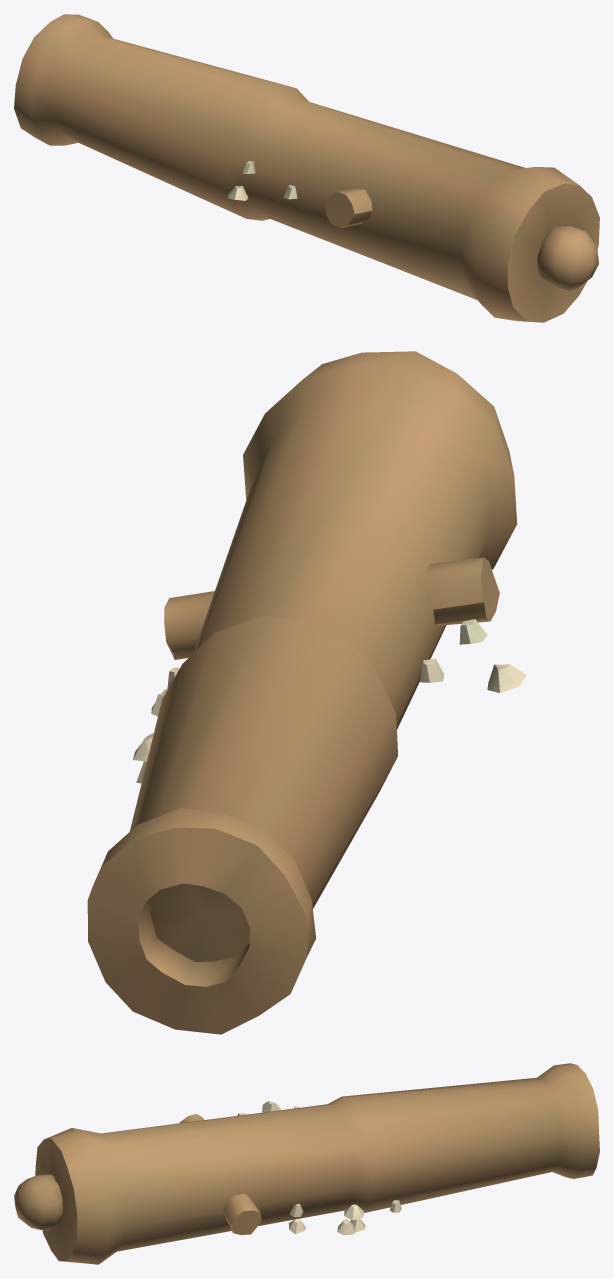
File: find_cannon.glb
3 renders of one model, top to bottom at view 1: azimuth 30°, elevation 25°; view 2: azimuth 150°, elevation 25°; view 3: azimuth 270°, elevation 25°, orthographic. The views are drawn at different scales.
Parts seen in each view (by area): view 1: find_cannon; view 2: find_cannon; view 3: find_cannon.
Boxes of the visible parts, <box> form: find_cannon: <box>14,14,599,322</box>; find_cannon: <box>87,351,525,1034</box>; find_cannon: <box>14,1063,599,1264</box>.
Size of the model in its own units: 0.9599 by 0.4343 by 1.86.
